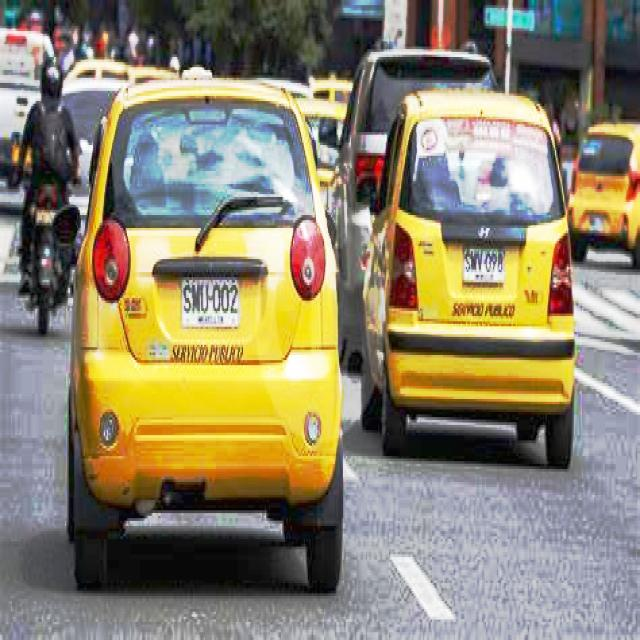license_plate: (179, 280, 241, 328), (464, 242, 505, 290)
